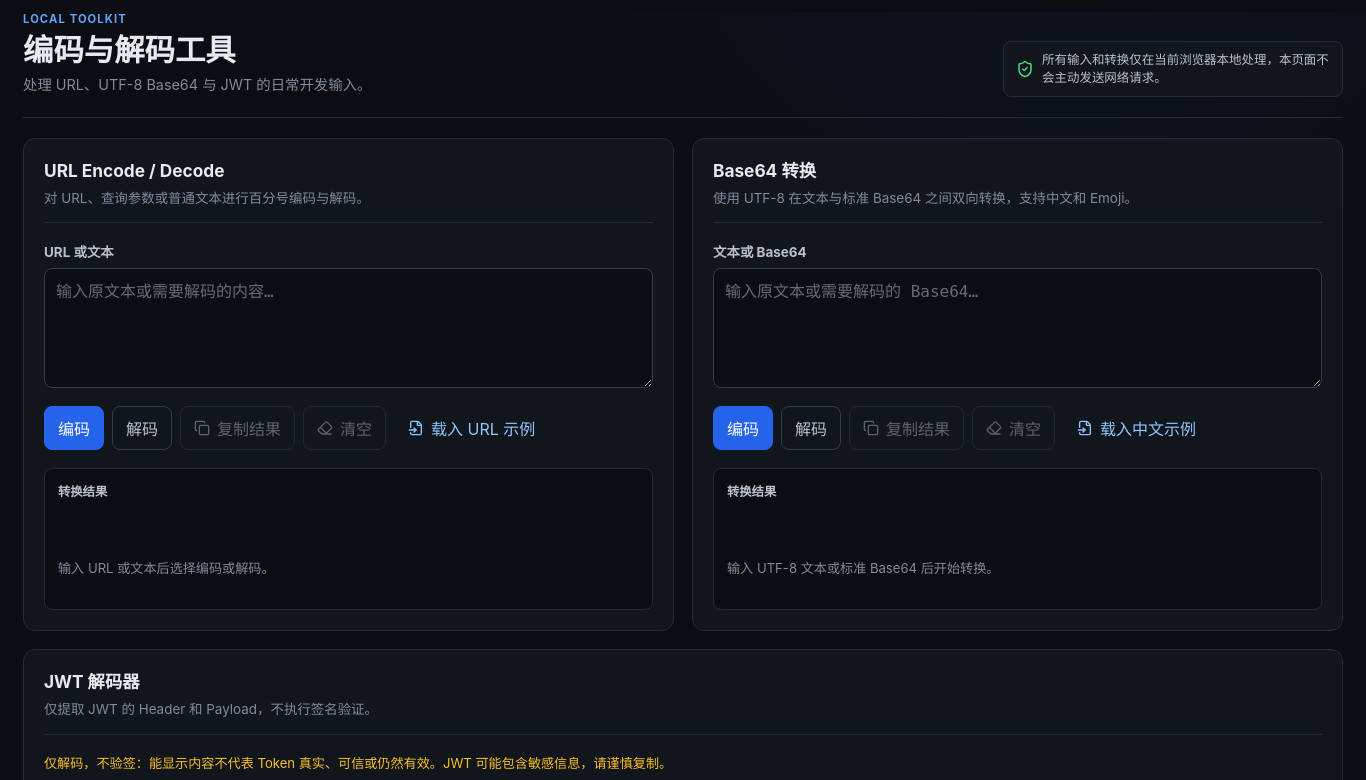
Test: EncodeTools › reports malformed URL and Base64 input as accessible errors
This screenshot has width=1366, height=780.
Check: the element "URL Encode / Decode" is shown, box [23,138,674,631]
Check: the element "Base64 转换" is shown, box [692,138,1343,631]
In the text box labelled "URL 或文本": point(348, 328) [44,268,653,388], type "%E0%A4%A"
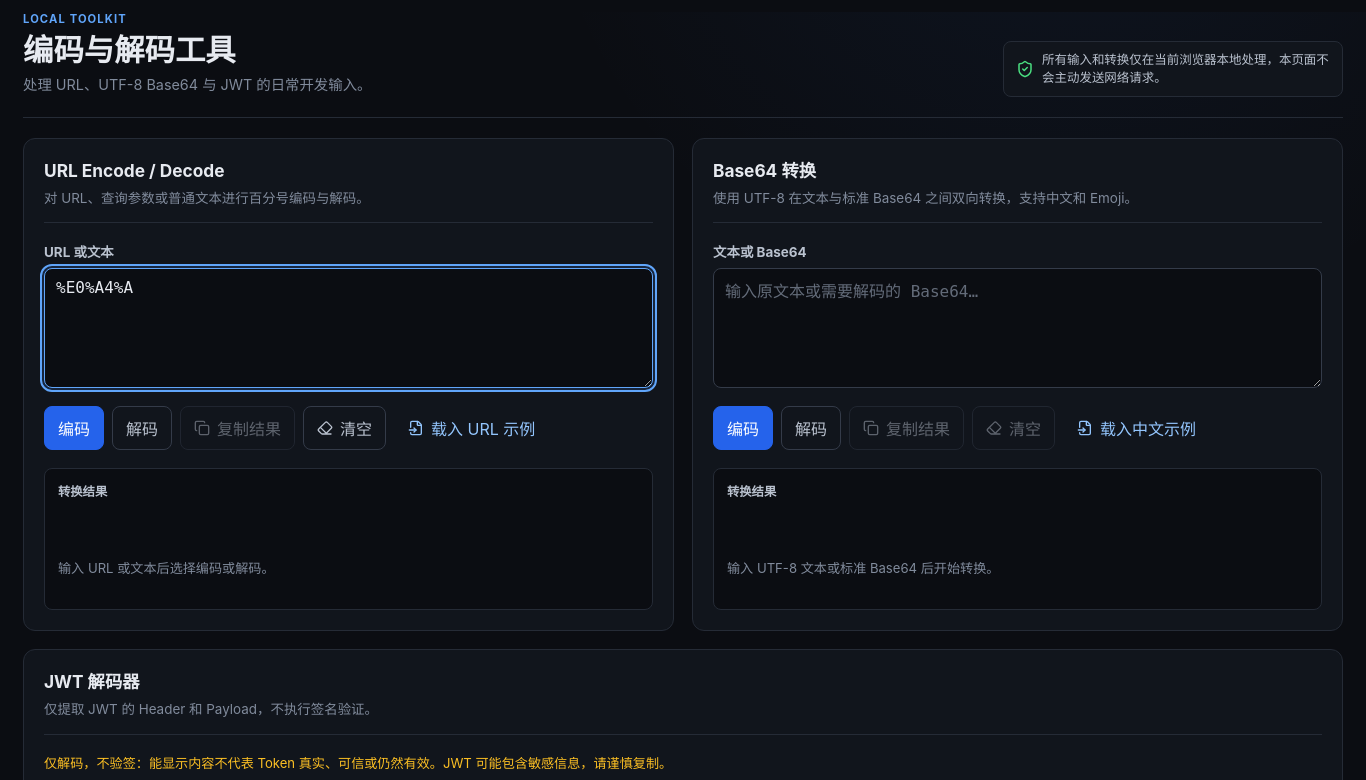
Click the button "解码" below "对 URL、查询参数或普通文本进行百分号编码与解码。": point(142, 428) [112,406,172,450]
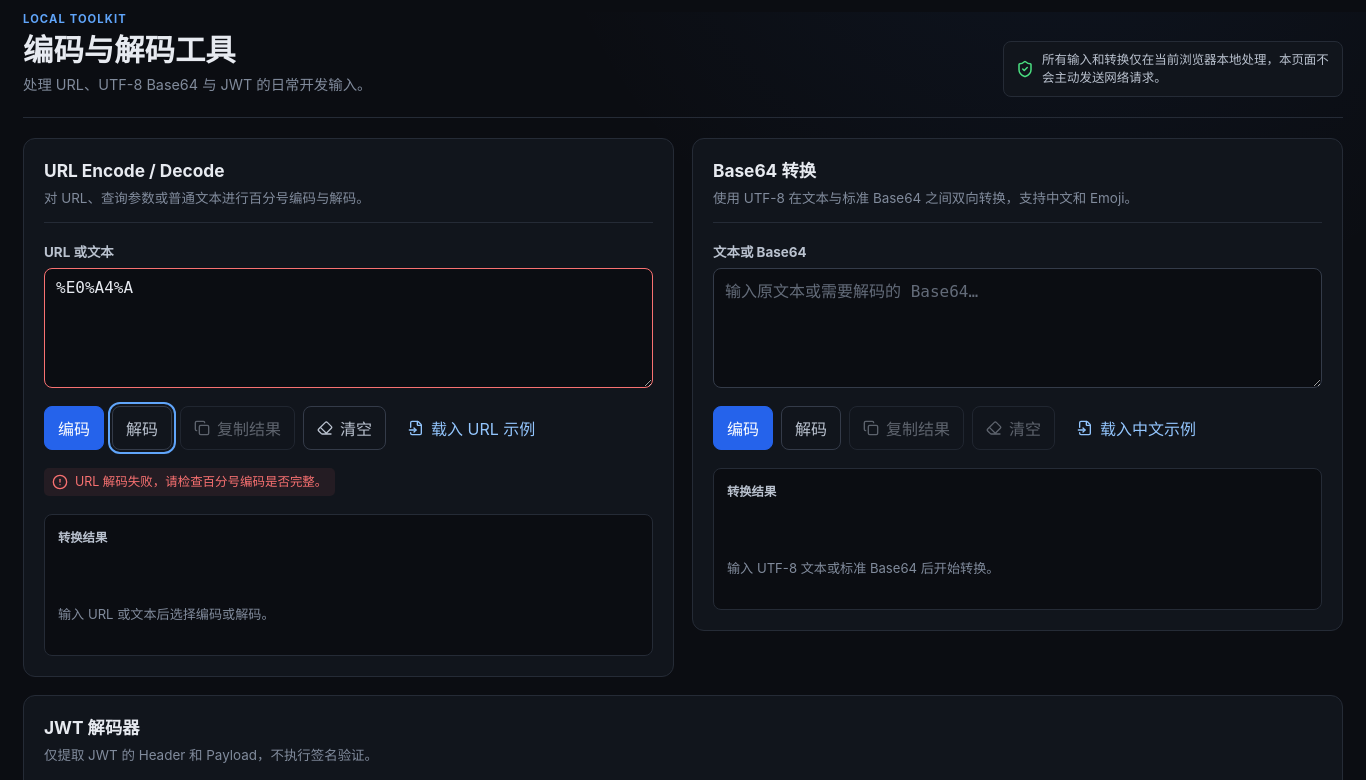
Check: the message shows "百分号编码是否完整", box [75,474,327,489]
In the text box labelled "文本或 Base64": point(1018, 328) [713,268,1322,388], type "not base64!"
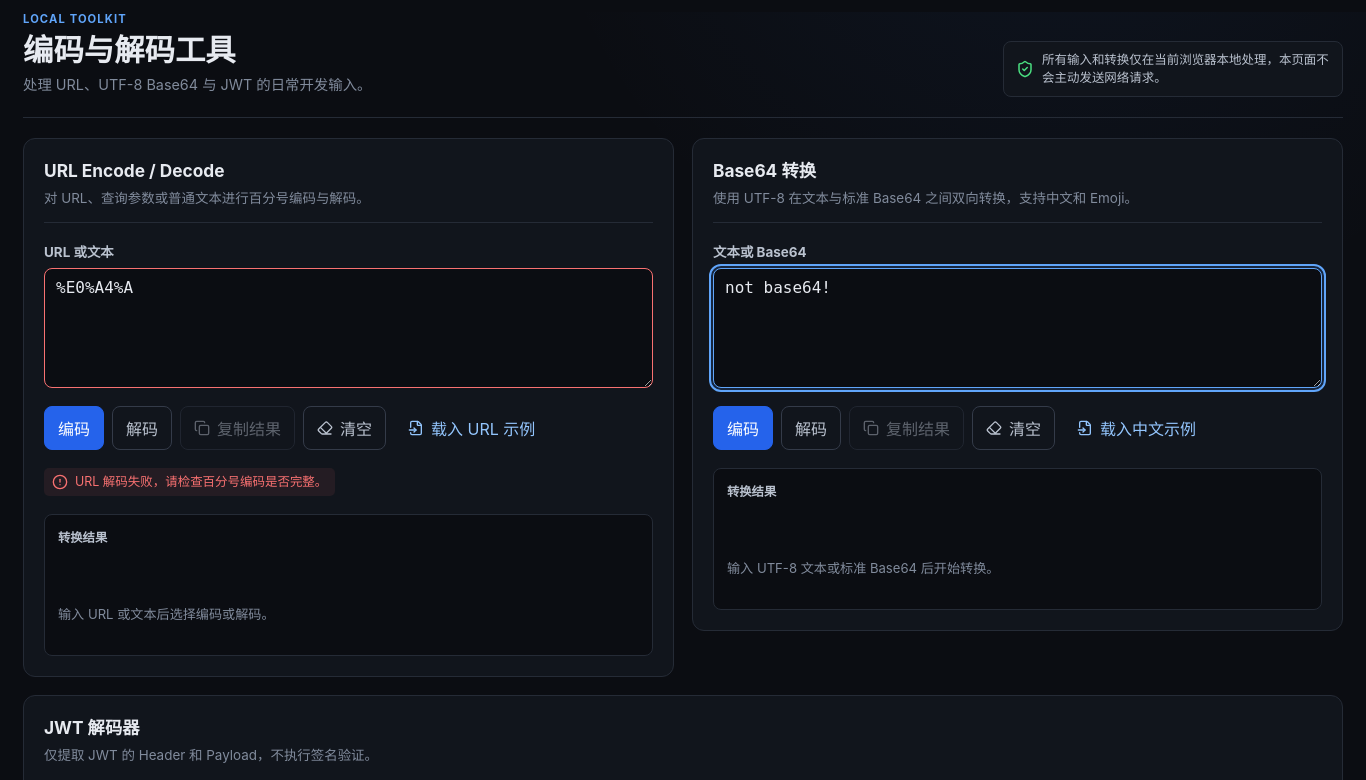
Click the button "解码" below "文本或 Base64": point(811, 428) [781,406,841,450]
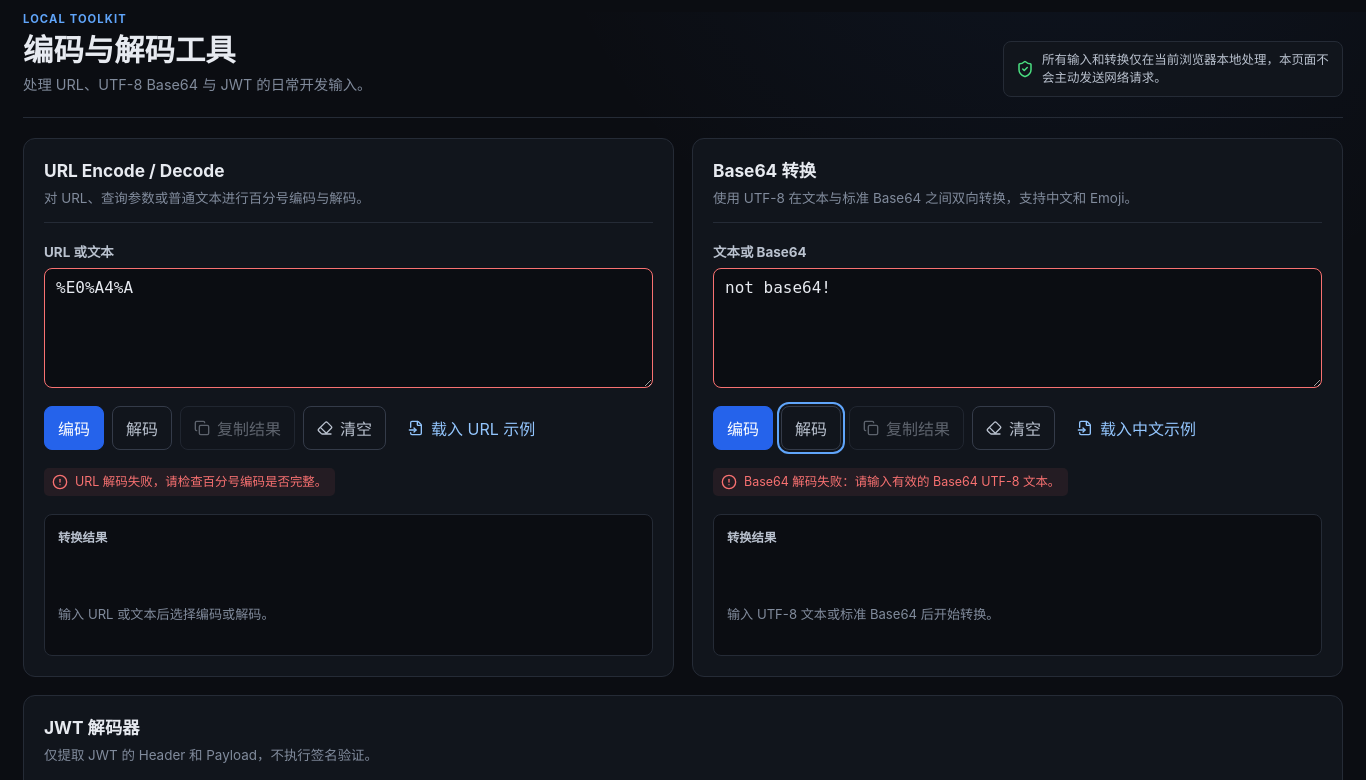
Check: the message "Base64 解码失败：请输入有效的 Base64 UTF-8 文本。" is shown, box [713,468,1068,496]
Replace the text in the text box labelled "文本或 Base64" with "/w==": point(1018, 328) [713,268,1322,388]
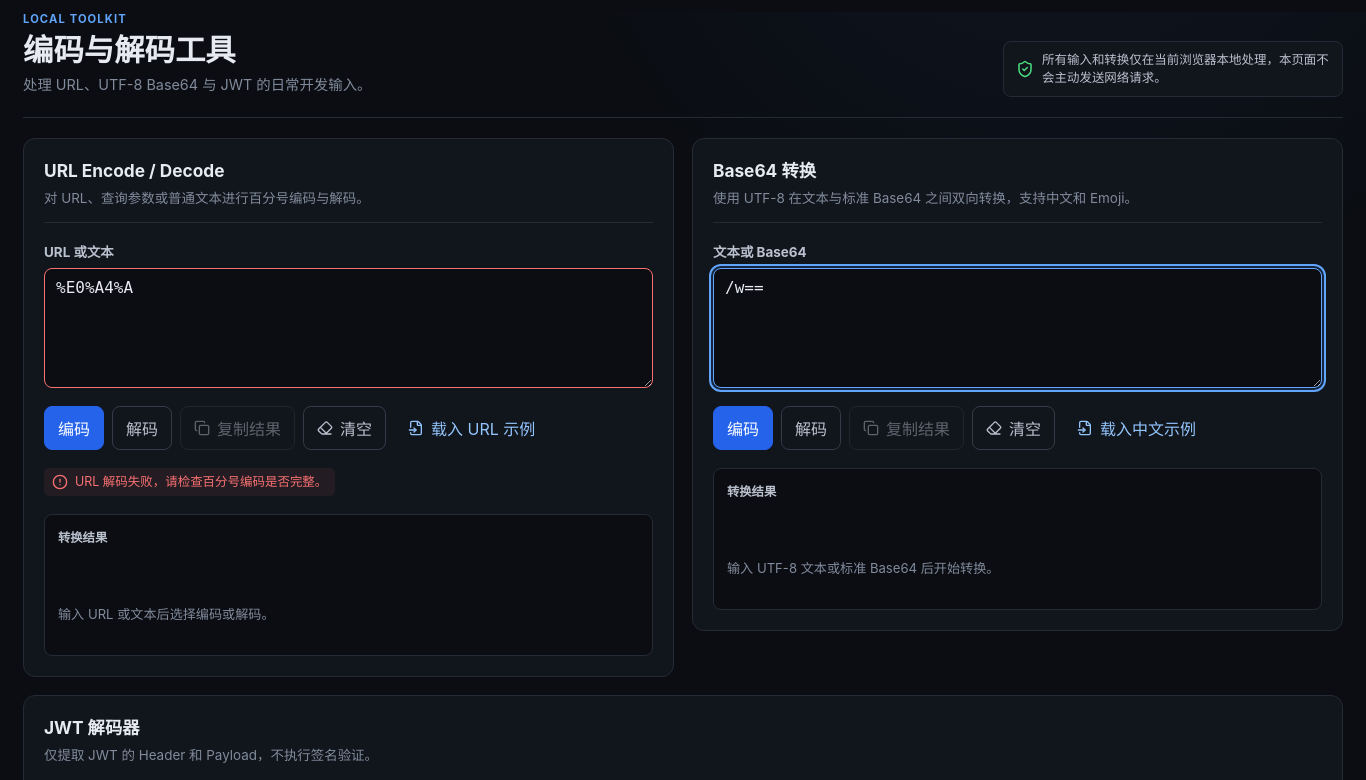
Click the button "解码" below "文本或 Base64": point(811, 428) [781,406,841,450]
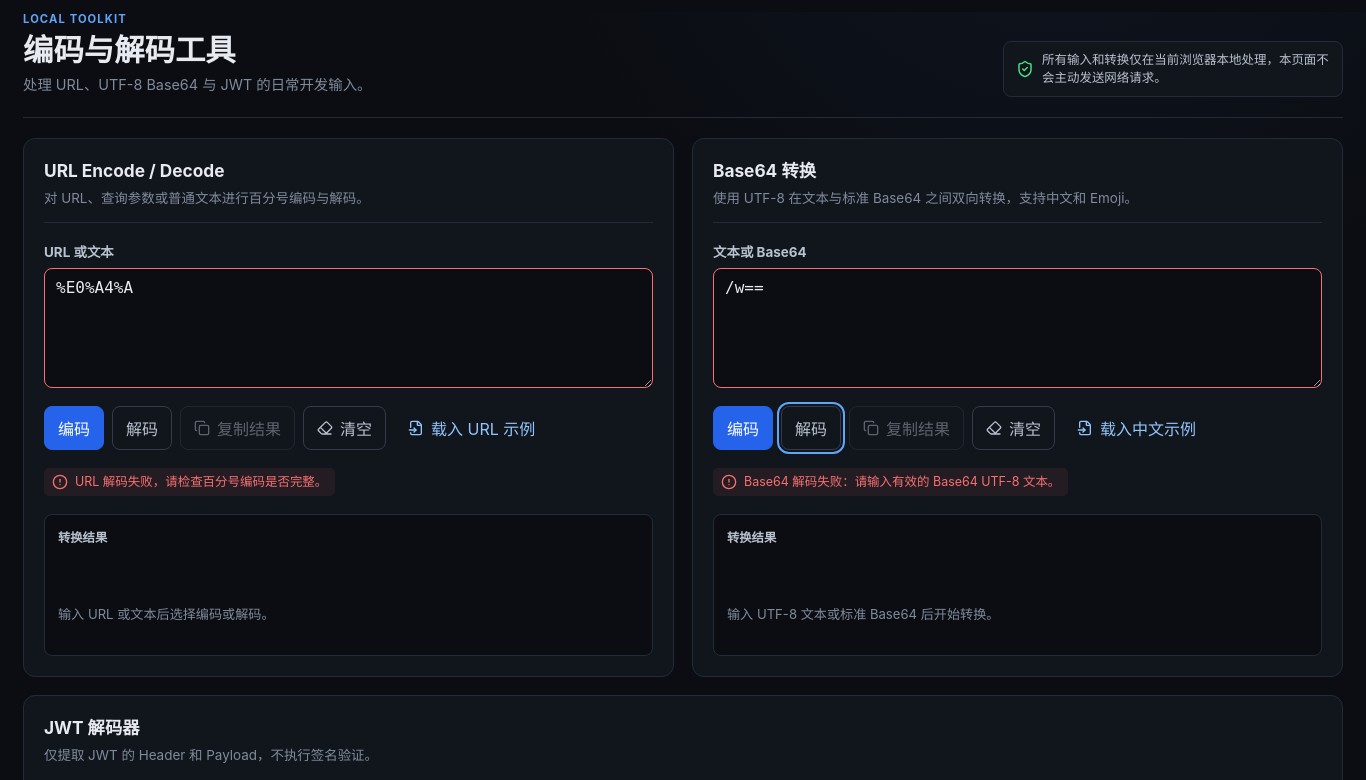
Check: the message "Base64 解码失败：请输入有效的 Base64 UTF-8 文本。" is shown, box [713,468,1068,496]
